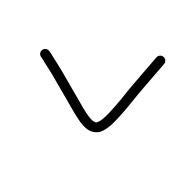t: (92, 47, 173, 146)
